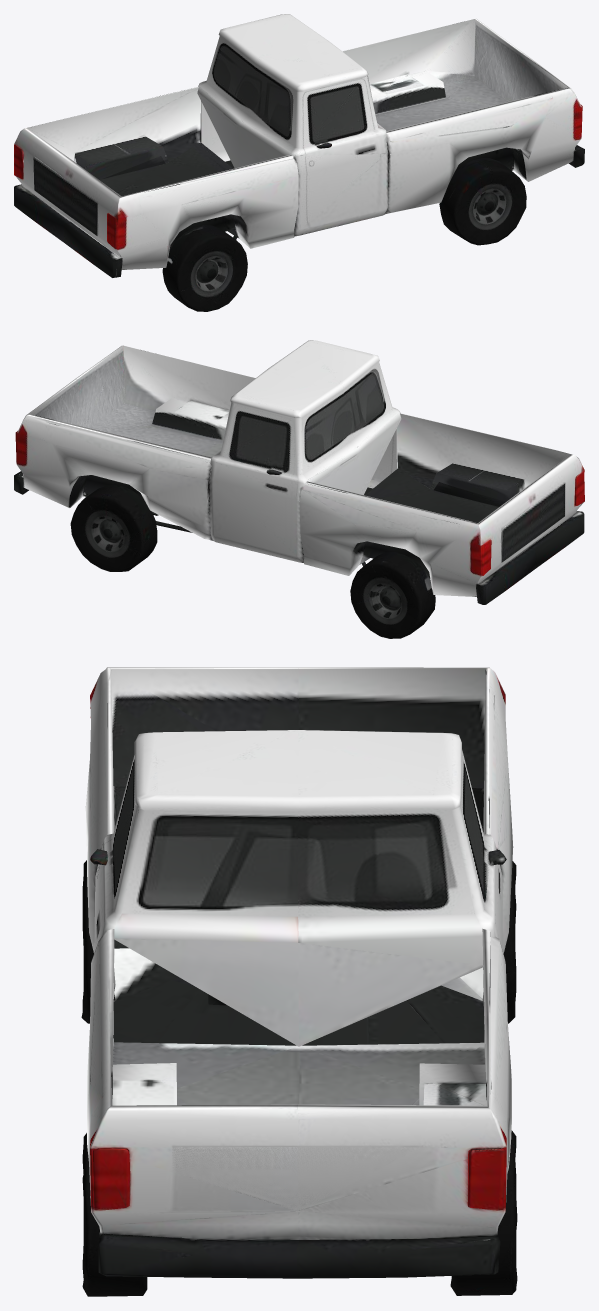
The model's file is car_pickup.glb.
The picture shows the model from 3 angles, top to bottom: view 1: azimuth 30°, elevation 25°; view 2: azimuth 150°, elevation 25°; view 3: azimuth 270°, elevation 25°; orthographic projection. The views are drawn at different scales.
Size of the model in its own units: 1 by 0.3887 by 0.4004.
1 material, 1 textured.
